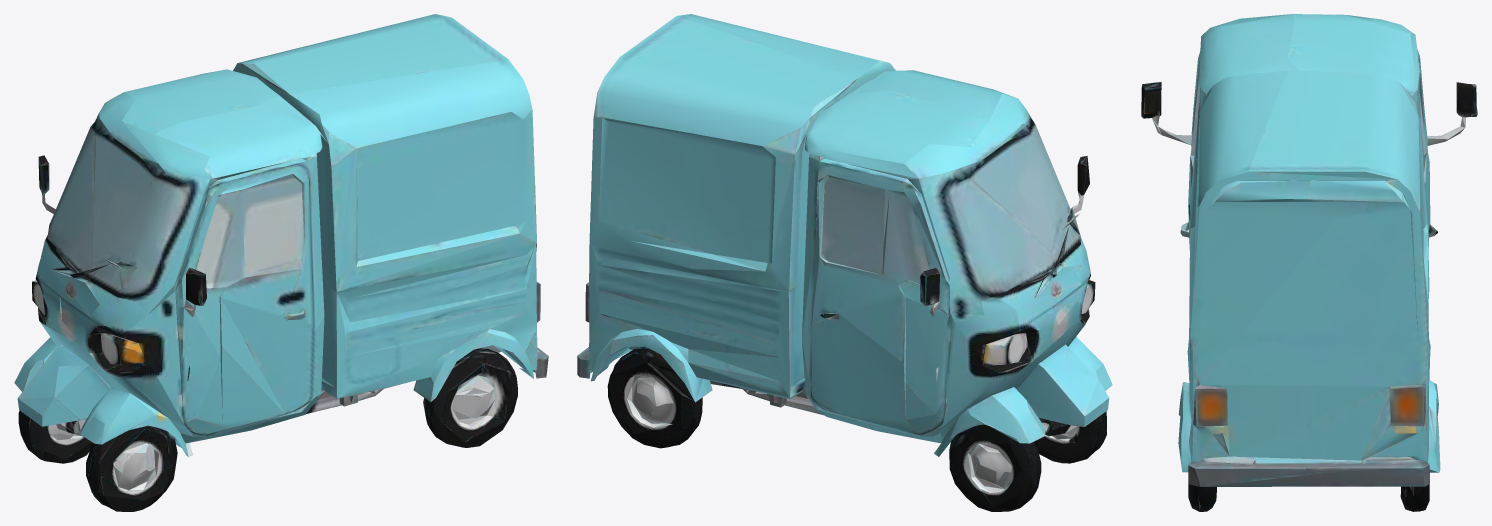
File: ape.glb
3 renders of one model, left to right at view 1: azimuth 30°, elevation 25°; view 2: azimuth 150°, elevation 25°; view 3: azimuth 270°, elevation 25°, orthographic. The views are drawn at different scales.
Bounding box in the file's own units: 1.89 × 1.38 × 1.15.
1 material, 1 textured.
